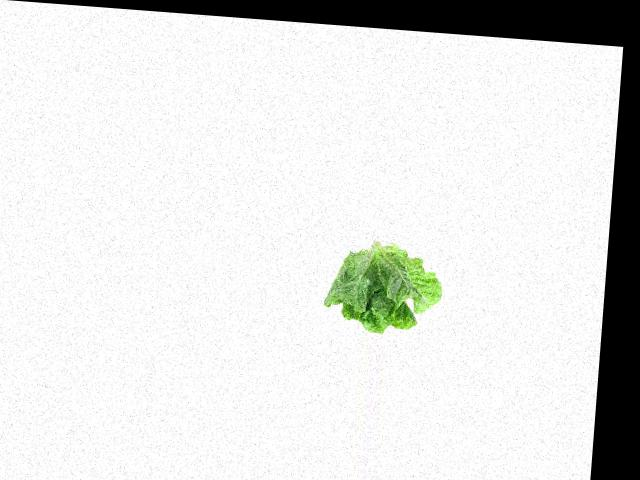lettuce: (320, 241, 443, 337)
